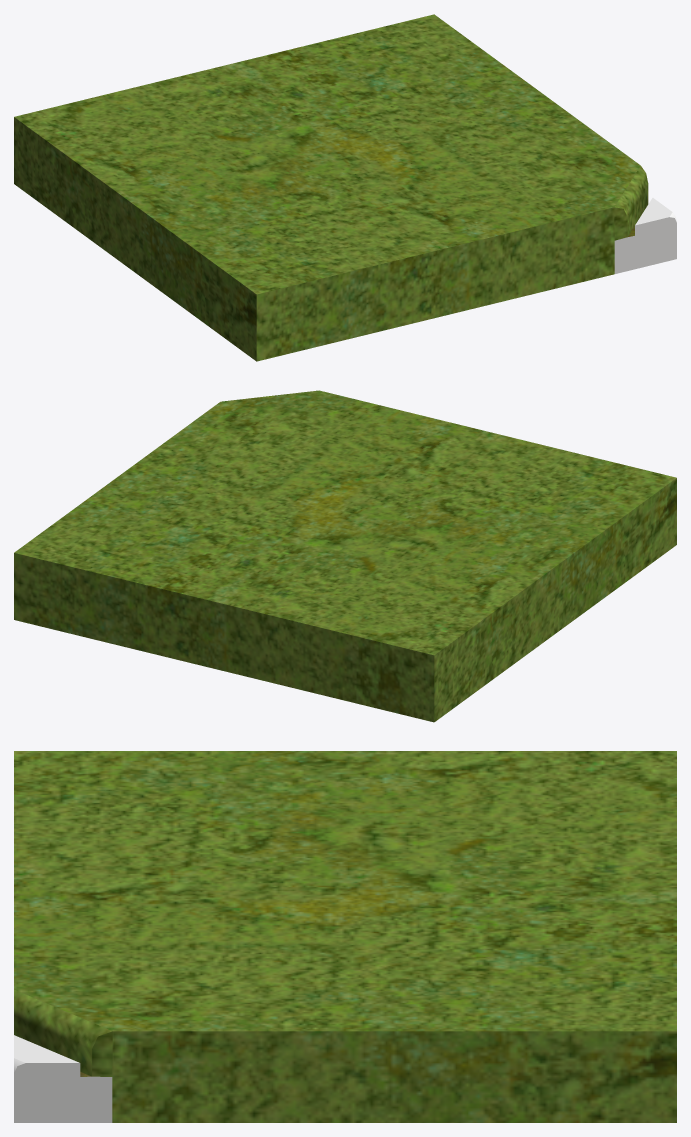
Rendered from Planter_B_01D.fbx.
3 views of the same model, one above another, from view 1: azimuth 30°, elevation 25°; view 2: azimuth 150°, elevation 25°; view 3: azimuth 270°, elevation 25° (orthographic). The views are drawn at different scales.
Visible parts, largest first — view 1: Planter_B_01D; view 2: Planter_B_01D; view 3: Planter_B_01D.
Part boxes in pixels (bbox=[...]): Planter_B_01D: bbox=[14, 14, 676, 361]; Planter_B_01D: bbox=[14, 390, 676, 722]; Planter_B_01D: bbox=[14, 751, 676, 1122].
Bounding box in the file's own units: 200 × 30.52 × 200.
1 material, 1 textured.
